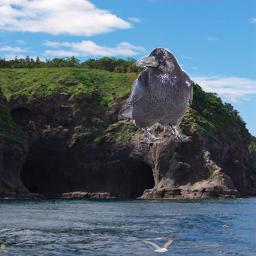Crow: (118, 46, 193, 143)
